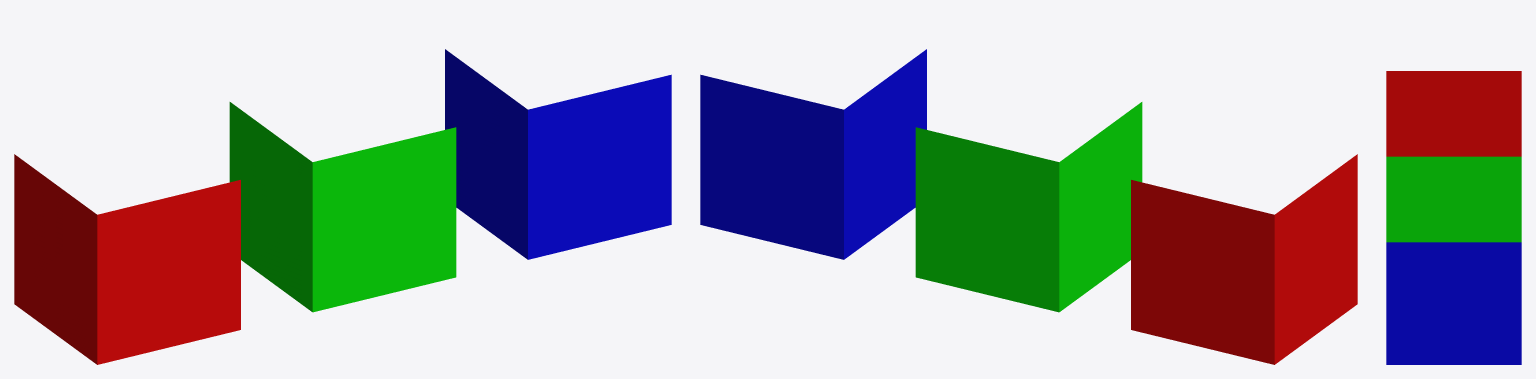
The picture shows the model from 3 angles, left to right: view 1: azimuth 30°, elevation 25°; view 2: azimuth 150°, elevation 25°; view 3: azimuth 270°, elevation 25°; orthographic projection. The views are drawn at different scales.
Visible parts, largest first — view 1: red, green, blue; view 2: red, green, blue; view 3: blue, green, red.
Part boxes in pixels (bbox=[...]): red: bbox=[14, 154, 240, 364]; green: bbox=[229, 102, 456, 312]; blue: bbox=[445, 49, 671, 259]; red: bbox=[1131, 154, 1357, 364]; green: bbox=[915, 102, 1142, 312]; blue: bbox=[700, 49, 926, 259]; blue: bbox=[1386, 242, 1521, 364]; green: bbox=[1386, 156, 1521, 242]; red: bbox=[1386, 71, 1521, 156].
Bounding box in the file's own units: 4 × 1 × 1.
Materials: 3 (3 with a texture image).
